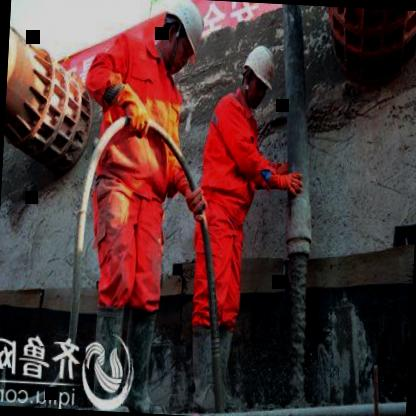helmet: (145, 0, 211, 79), (237, 40, 280, 110)
